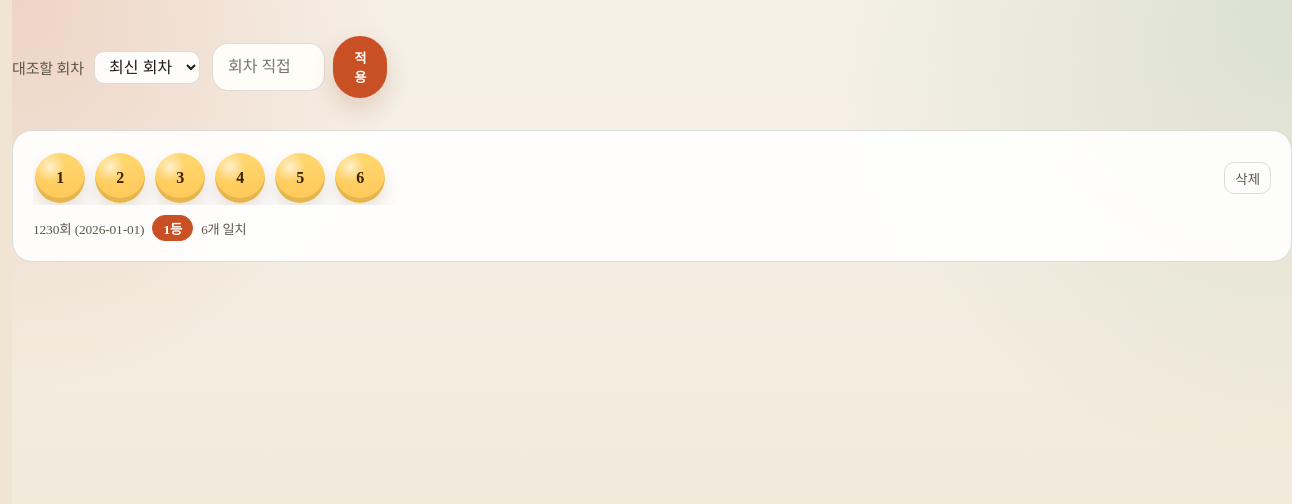
Test: 저장 번호 화면 › 회차를 바꾸면 이전 회차의 대조 결과를 즉시 비우고 로딩 문구를 보여준다
Expected: the text "1등" is shown, [152,215,193,241]
회차를 바꿔 매치 요청이 실패하게 만든다
Select "1229회" in the dropdown labelled "대조할 회차" at (147,67), box [94,50,200,84]
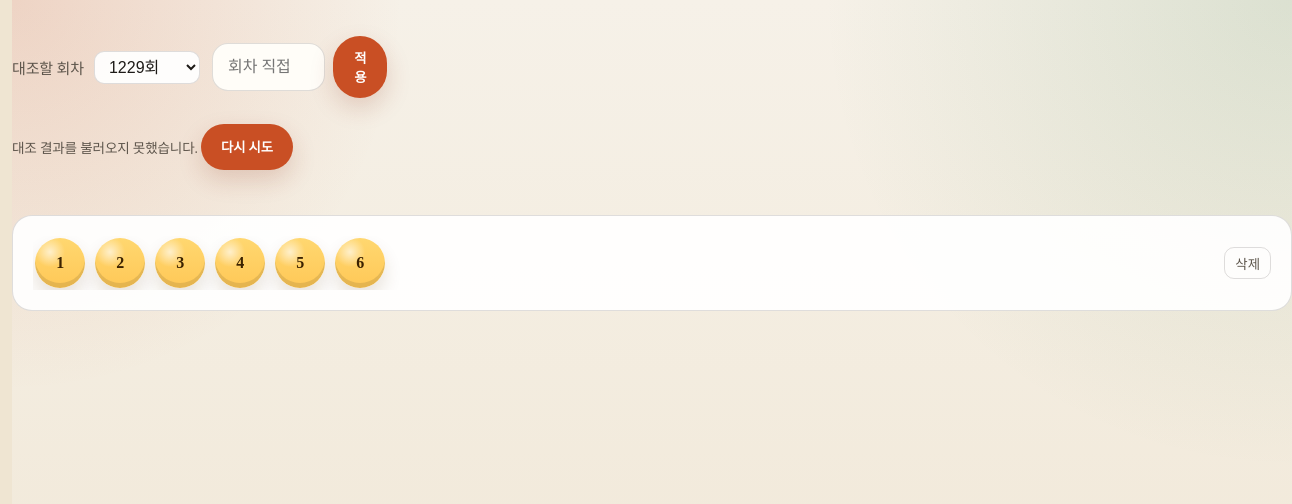
Expected: the text "대조 결과를 불러오지 못했습니다. 다시 시도" is shown, [12,124,293,170]
Expected: the text "1등" is gone
Expected: the button "다시 시도" is shown, [201,124,293,170]
